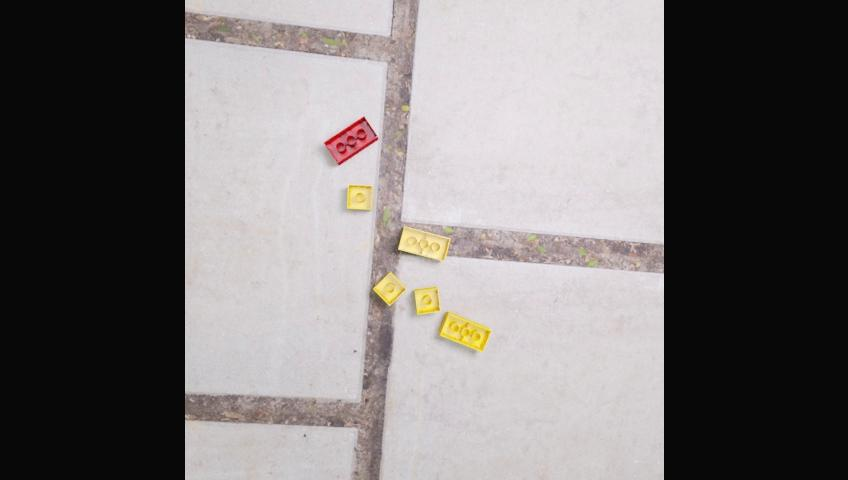2x2_yellow: (371, 271, 405, 306), (413, 286, 439, 315), (346, 184, 372, 210)
4x2_red: (323, 116, 378, 164)
4x2_yellow: (437, 312, 490, 352), (397, 226, 450, 262)
